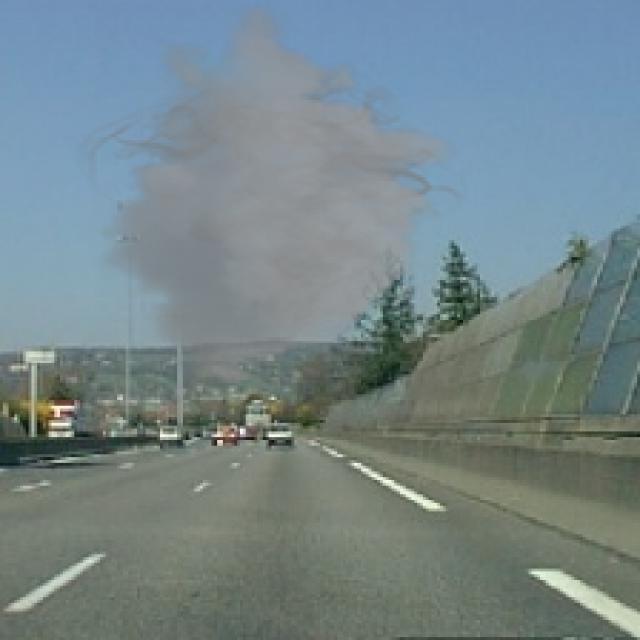smoke: (69, 3, 468, 388)
